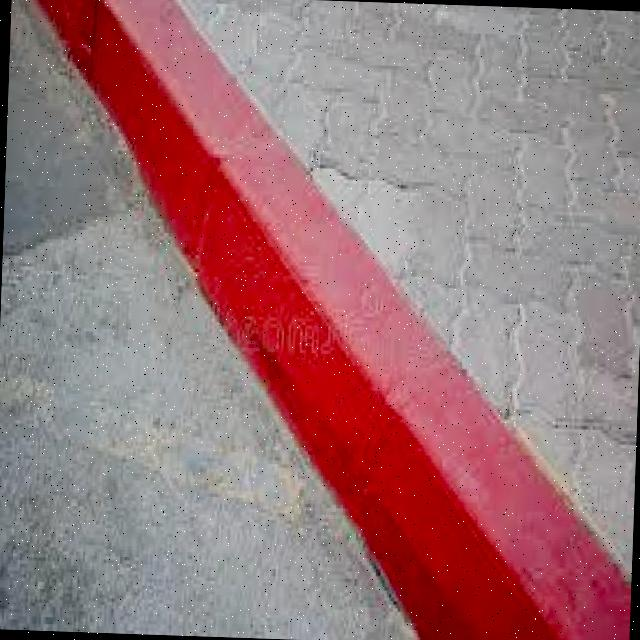curb: (307, 454, 632, 640), (172, 187, 422, 364), (200, 355, 529, 481), (22, 1, 224, 179)
